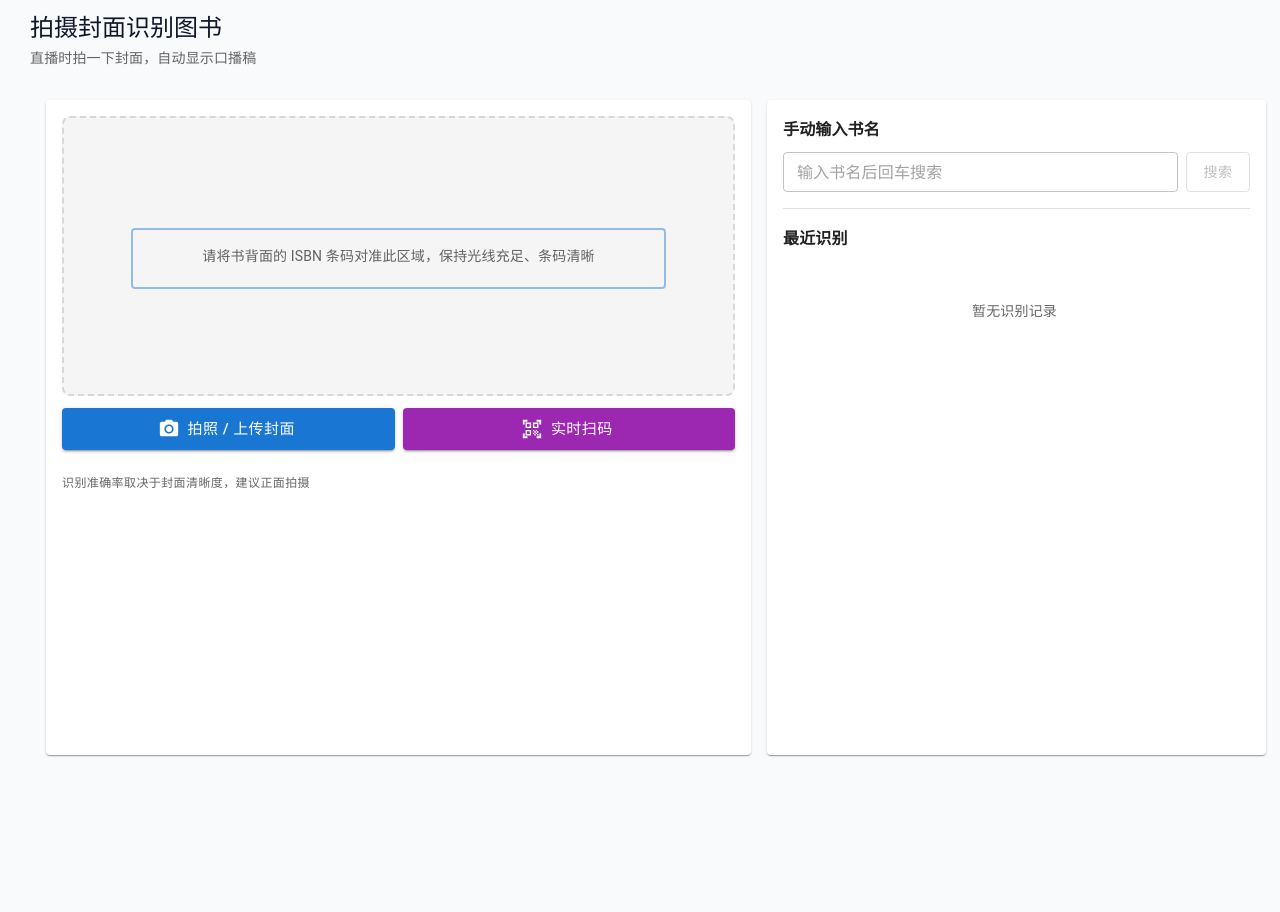
ScanCover › shows manual search candidates without navigation
Type "Pragmatic" into the field with placeholder "输入书名后回车搜索" at (980, 172), box [783,152,1178,192]
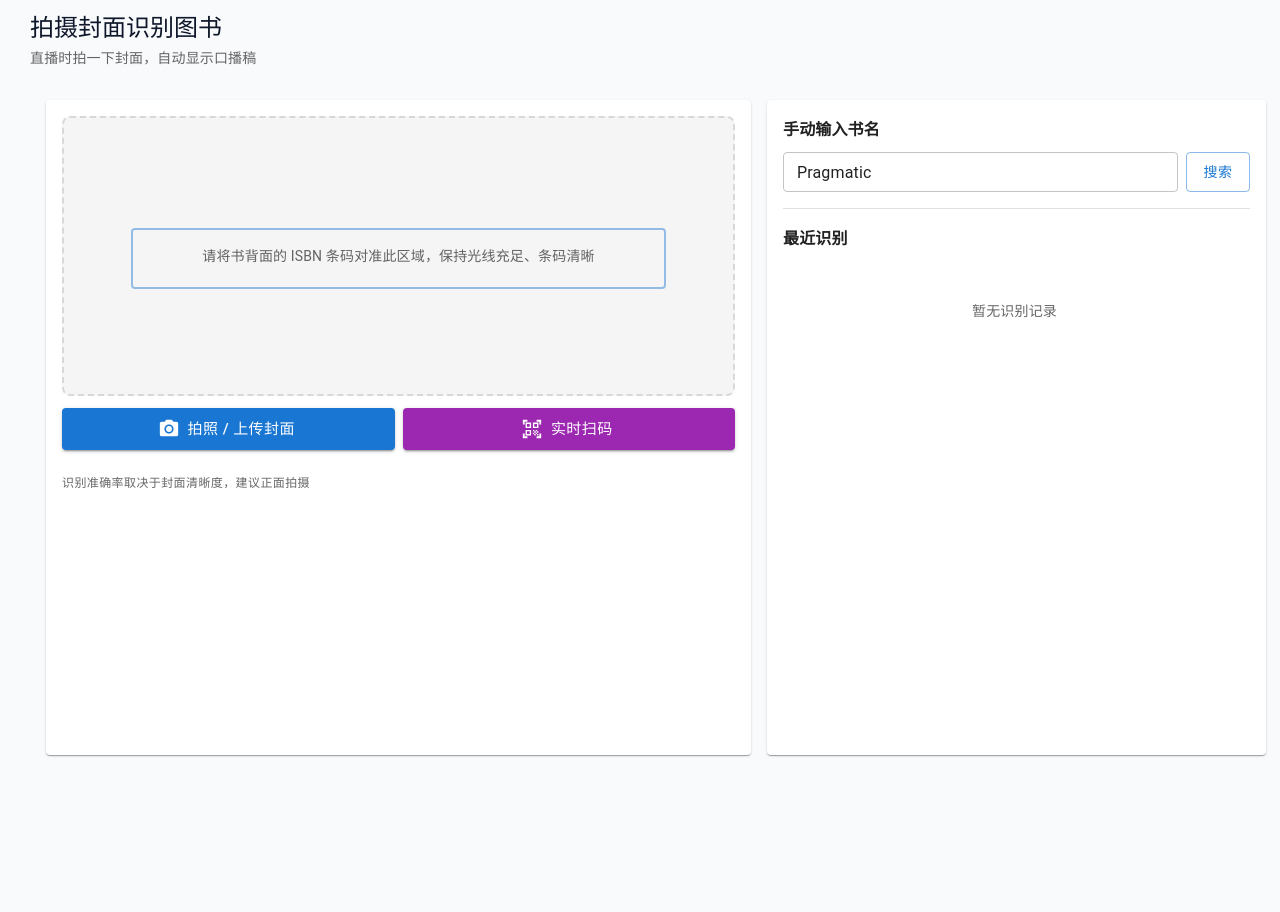
Click the button "搜索" at (1218, 172), box [1186,152,1250,192]
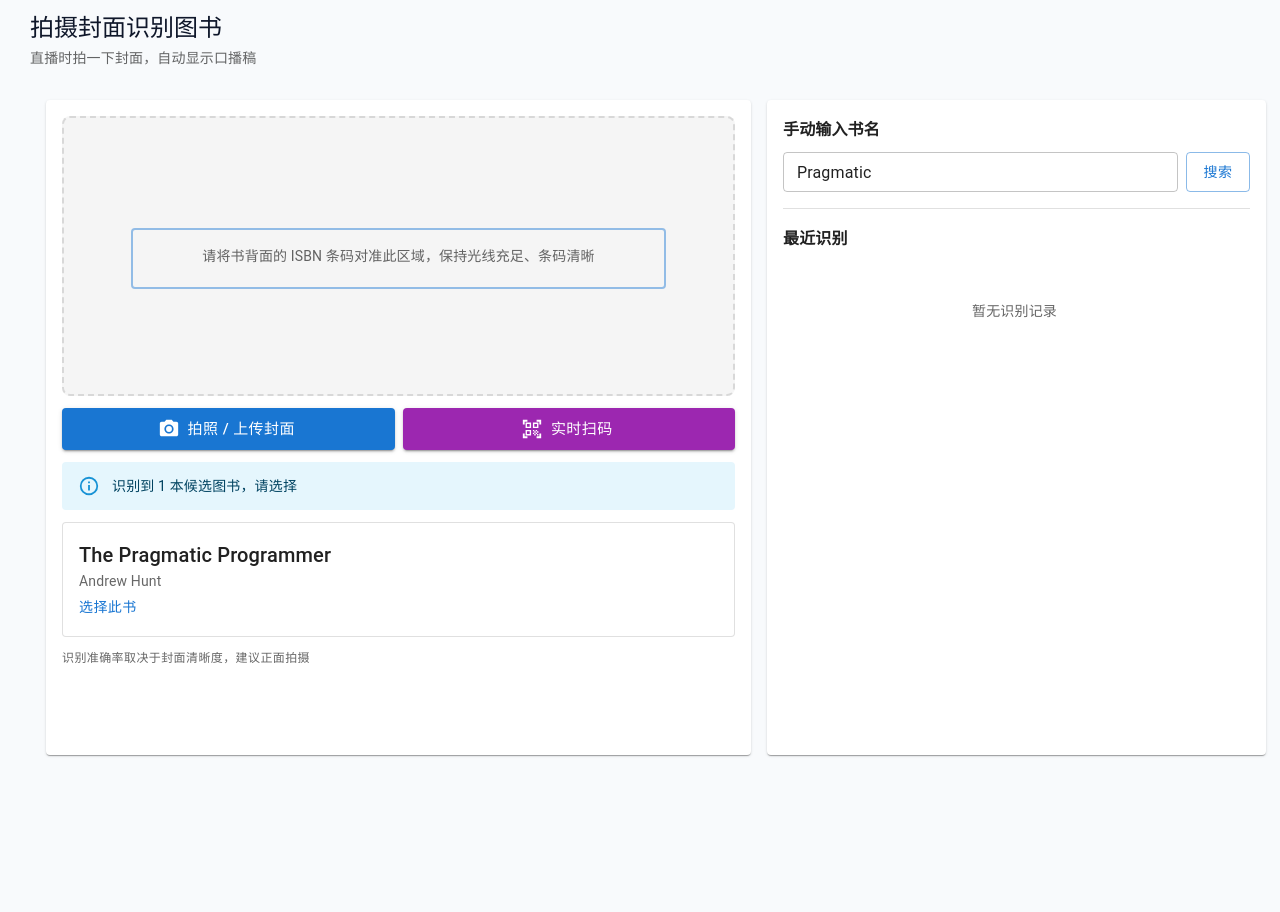
Now the heading "The Pragmatic Programmer" is shown, box [79,543,331,567]
